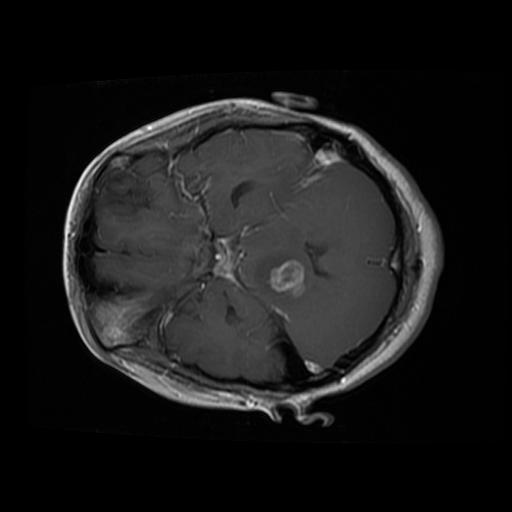glioma: (265, 258, 308, 297)
